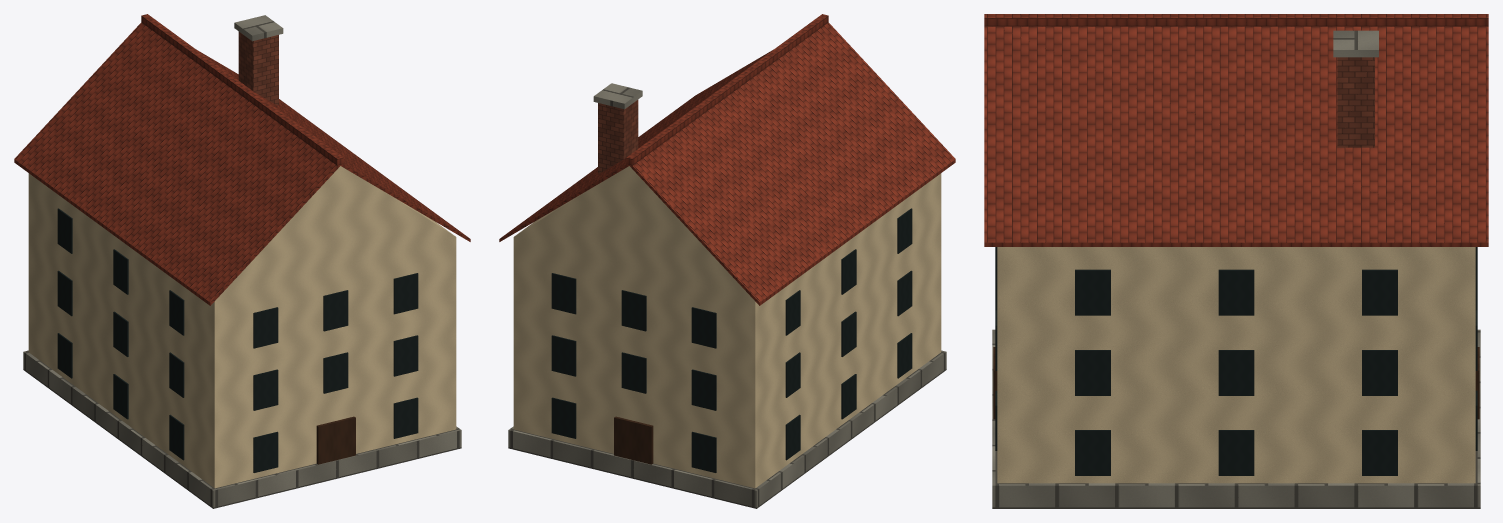
The model's file is SG_House_A_Gable_LOD2.fbx.
The picture shows the model from 3 angles, left to right: view 1: azimuth 30°, elevation 25°; view 2: azimuth 150°, elevation 25°; view 3: azimuth 270°, elevation 25°; orthographic projection. The views are drawn at different scales.
Parts seen in each view (by area): view 1: SG_House_A_Gable_Detail2; view 2: SG_House_A_Gable_Detail2; view 3: SG_House_A_Gable_Detail2.
Boxes of the visible parts, box(x1,y1,x2,y2) form: SG_House_A_Gable_Detail2: box(14, 14, 470, 508); SG_House_A_Gable_Detail2: box(499, 14, 955, 508); SG_House_A_Gable_Detail2: box(984, 14, 1488, 508).
Size of the model in its own units: 19.4 by 23.8 by 25.3.
